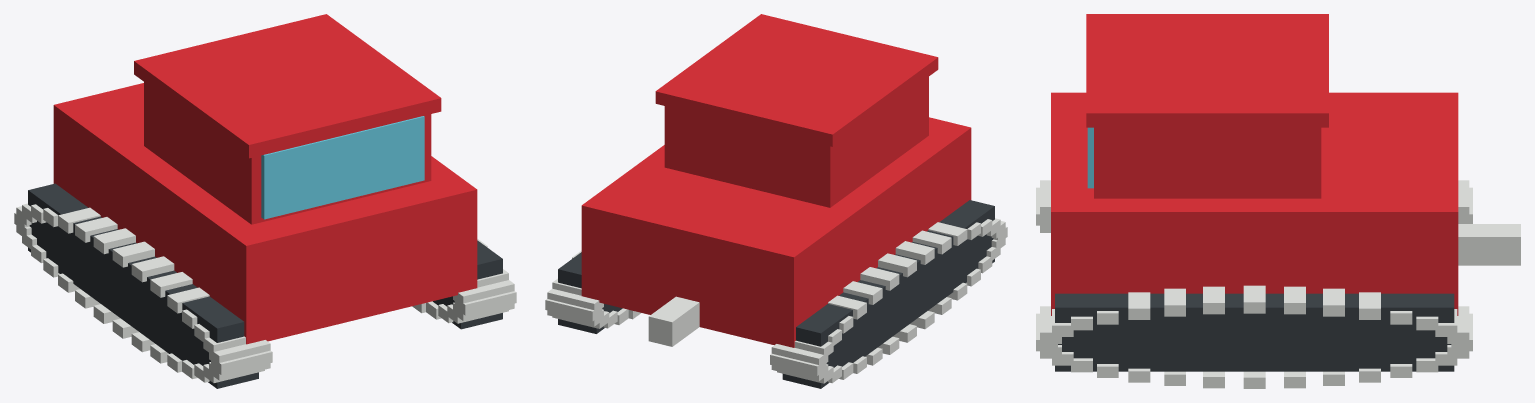
Rendered from gup-x.glb.
3 renders of one model, left to right at view 1: azimuth 30°, elevation 25°; view 2: azimuth 150°, elevation 25°; view 3: azimuth 270°, elevation 25°, orthographic. The views are drawn at different scales.
Visible parts, largest first — view 1: Red hull, Roof, LeftTrack, Blue windscreen, Red cabin, RightTrack, RightTrackLink8, LeftTrackLink8, LeftTrackLink7, RightTrackLink7, LeftTrackLink0, LeftTrackLink1 (+6 smaller); view 2: Red hull, Roof, Red cabin, LeftTrack, Rear tow hitch, RightTrack, LeftTrackLink24, RightTrackLink24, LeftTrackLink25, RightTrackLink25, LeftTrackLink0, LeftTrackLink1 (+5 smaller); view 3: Red hull, Roof, RightTrack, Red cabin, Rear tow hitch, RightTrackLink0, RightTrackLink3, RightTrackLink1, RightTrackLink2, RightTrackLink30, RightTrackLink31, RightTrackLink29 (+5 smaller).
Boxes of the visible parts, left/top/right/bottom form: Red hull: left=53, top=83, right=477, bottom=344; Roof: left=134, top=14, right=441, bottom=158; LeftTrack: left=28, top=183, right=258, bottom=388; Blue windscreen: left=261, top=116, right=424, bottom=219; Red cabin: left=144, top=82, right=431, bottom=224; RightTrack: left=433, top=240, right=502, bottom=329; RightTrackLink8: left=454, top=291, right=516, bottom=315; LeftTrackLink8: left=211, top=350, right=272, bottom=374; LeftTrackLink7: left=209, top=340, right=270, bottom=365; RightTrackLink7: left=453, top=280, right=514, bottom=303; LeftTrackLink0: left=112, top=241, right=154, bottom=267; LeftTrackLink1: left=131, top=256, right=174, bottom=282; Red hull: left=581, top=117, right=971, bottom=347; Roof: left=655, top=14, right=938, bottom=146; Red cabin: left=664, top=77, right=928, bottom=207; LeftTrack: left=782, top=200, right=994, bottom=388; Rear tow hitch: left=648, top=296, right=699, bottom=346; RightTrack: left=558, top=252, right=622, bottom=333; LeftTrackLink24: left=770, top=353, right=826, bottom=375; RightTrackLink24: left=545, top=299, right=602, bottom=321; LeftTrackLink25: left=771, top=344, right=828, bottom=364; RightTrackLink25: left=547, top=288, right=603, bottom=313; LeftTrackLink0: left=878, top=253, right=916, bottom=277; LeftTrackLink1: left=895, top=241, right=934, bottom=264; Red hull: left=1051, top=92, right=1458, bottom=315; Roof: left=1086, top=14, right=1328, bottom=127; RightTrack: left=1055, top=293, right=1454, bottom=371; Red cabin: left=1094, top=127, right=1321, bottom=198; Rear tow hitch: left=1458, top=224, right=1520, bottom=265; RightTrackLink0: left=1243, top=285, right=1265, bottom=313; RightTrackLink3: left=1128, top=292, right=1150, bottom=319; RightTrackLink1: left=1203, top=286, right=1224, bottom=314; RightTrackLink2: left=1164, top=288, right=1185, bottom=316; RightTrackLink30: left=1323, top=288, right=1344, bottom=316; RightTrackLink31: left=1284, top=286, right=1305, bottom=314; RightTrackLink29: left=1359, top=292, right=1380, bottom=319.
Bounding box in the file's own units: 4.6 × 3.51 × 6.19.
